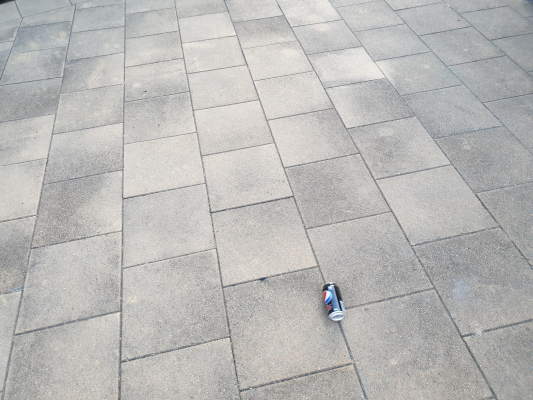Plastic Bottle: (323, 282, 346, 321)
